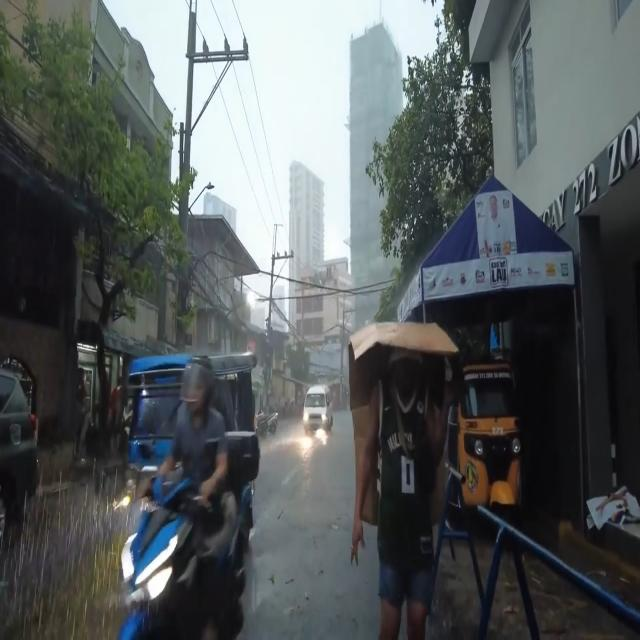half: (179, 356, 213, 412)
